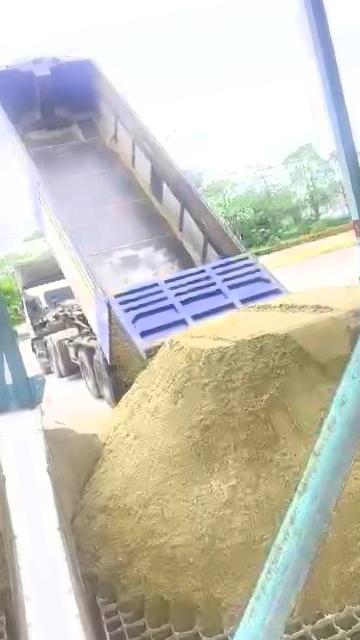sand: (75, 286, 360, 627), (300, 347, 360, 614), (44, 415, 102, 529)
